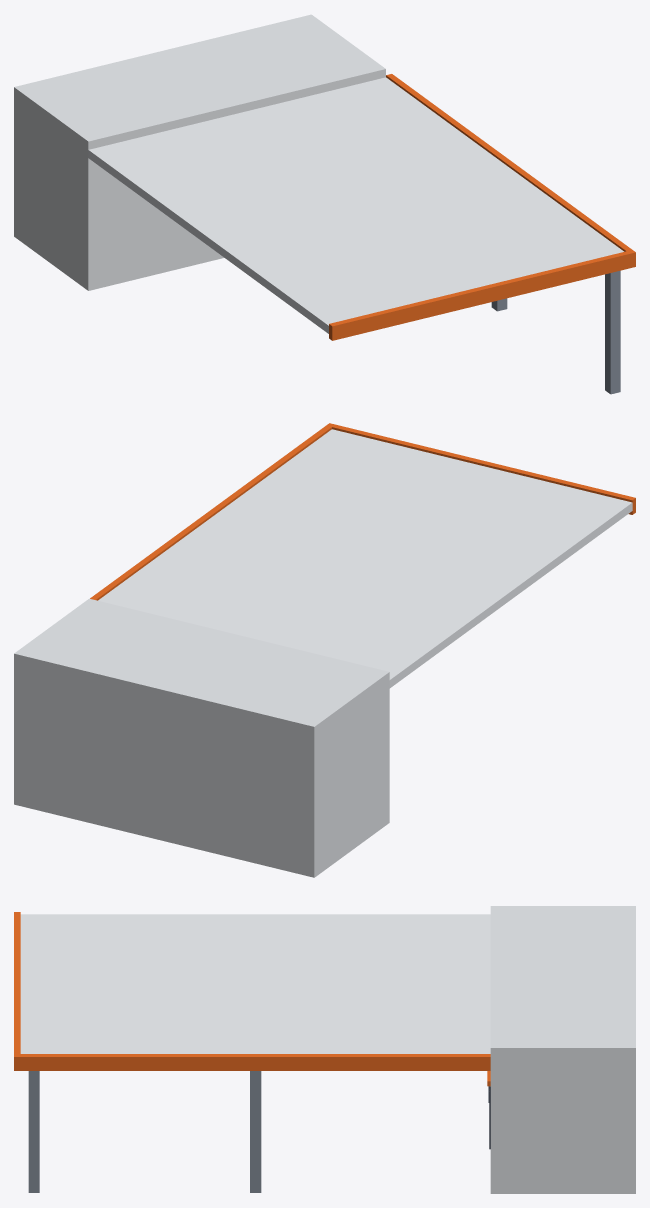
The model's file is gudang-1-dock.glb.
3 renders of one model, top to bottom at view 1: azimuth 30°, elevation 25°; view 2: azimuth 150°, elevation 25°; view 3: azimuth 270°, elevation 25°, orthographic. The views are drawn at different scales.
Parts seen in each view (by area): view 1: canopy, wall, trim, column; view 2: wall, canopy, trim; view 3: canopy, wall, trim, column.
Boxes of the visible parts, x1=… form: canopy: x1=88, y1=77, x2=623, y2=333; wall: x1=14, y1=14, x2=385, y2=290; trim: x1=329, y1=74, x2=635, y2=340; column: x1=491, y1=270, x2=620, y2=394; wall: x1=14, y1=598, x2=389, y2=877; canopy: x1=98, y1=429, x2=632, y2=688; trim: x1=90, y1=423, x2=635, y2=600; canopy: x1=20, y1=914, x2=490, y2=1053; wall: x1=490, y1=906, x2=635, y2=1193; trim: x1=14, y1=912, x2=490, y2=1086; column: x1=28, y1=1071, x2=261, y2=1192.
Size of the model in its own units: 15.3 by 7.2 by 27.8.
